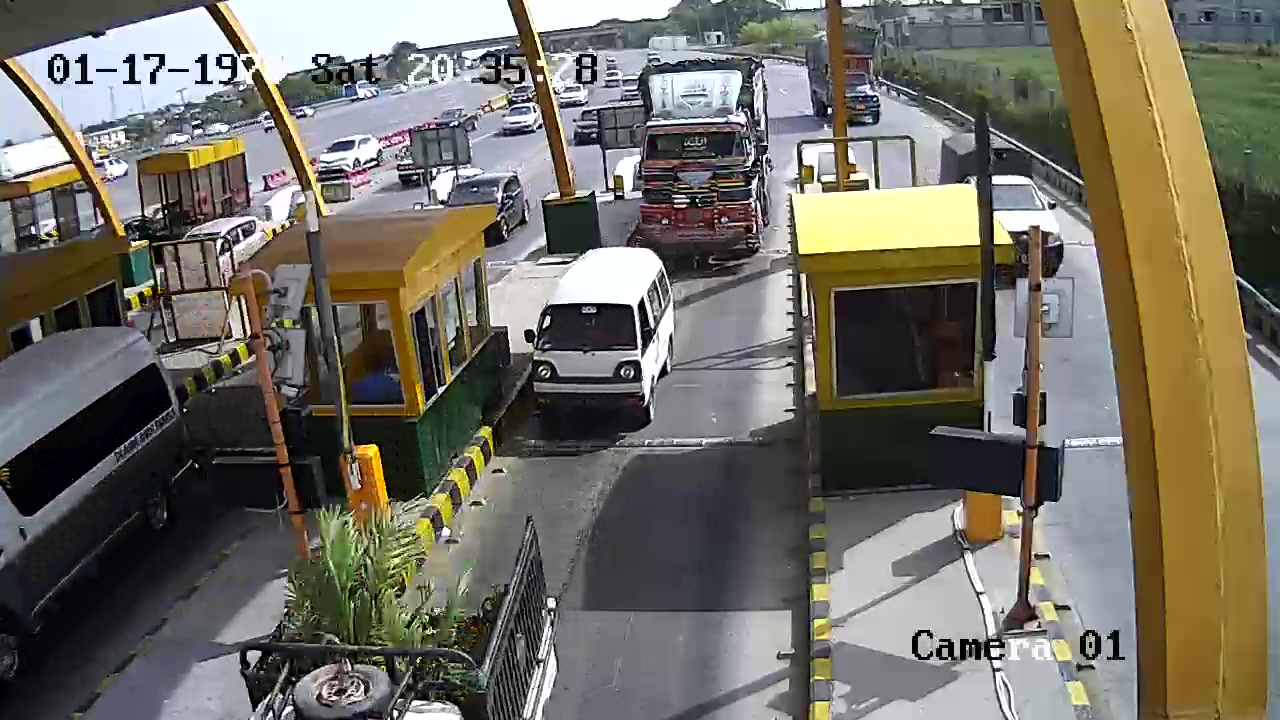F1: (518, 238, 679, 465)
